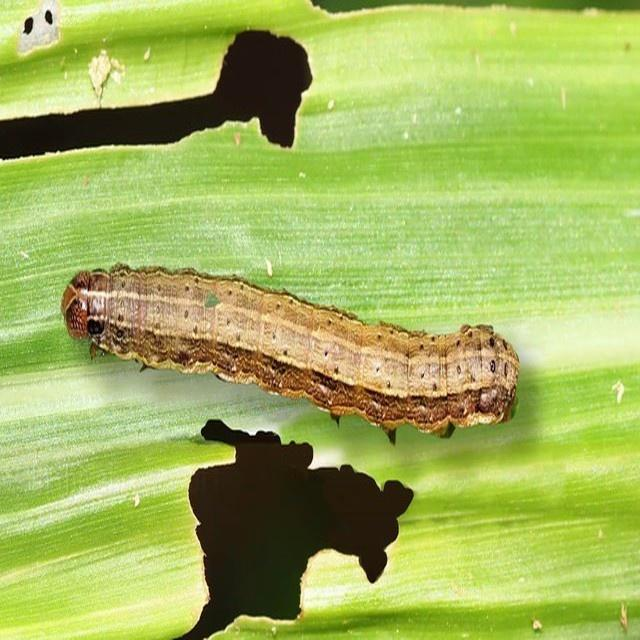gusano_cogollero: (61, 270, 522, 427)
